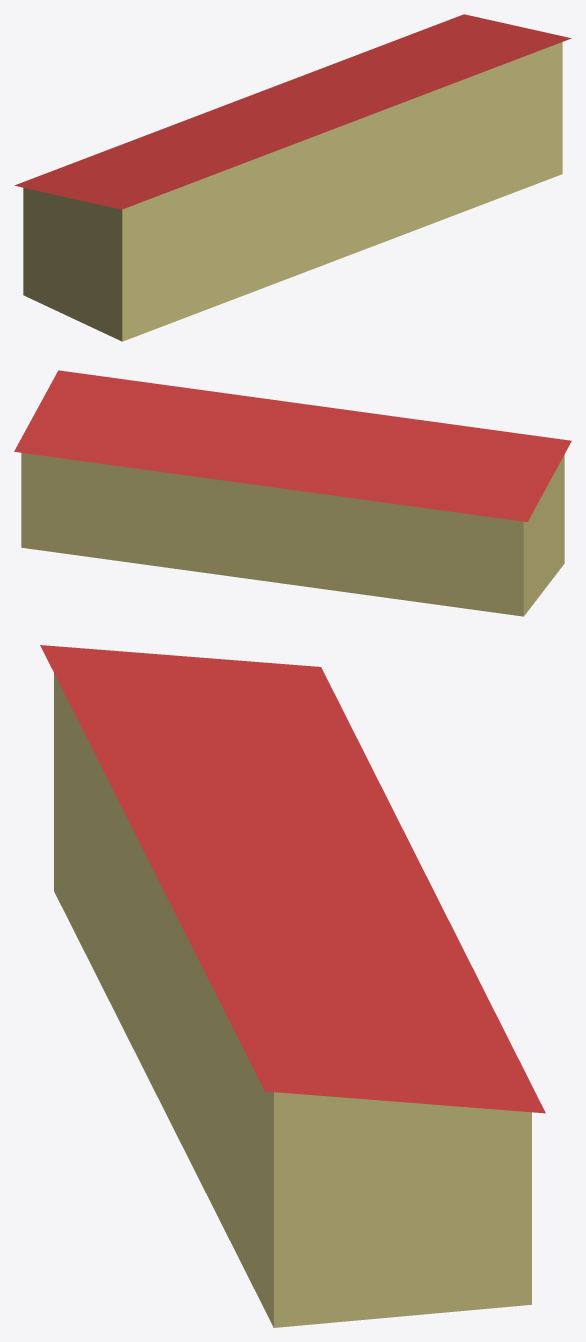
The picture shows the model from 3 angles, top to bottom: view 1: azimuth 30°, elevation 25°; view 2: azimuth 150°, elevation 25°; view 3: azimuth 270°, elevation 25°; orthographic projection. The views are drawn at different scales.
Size of the model in its own units: 23.64 by 10.72 by 5.67.
